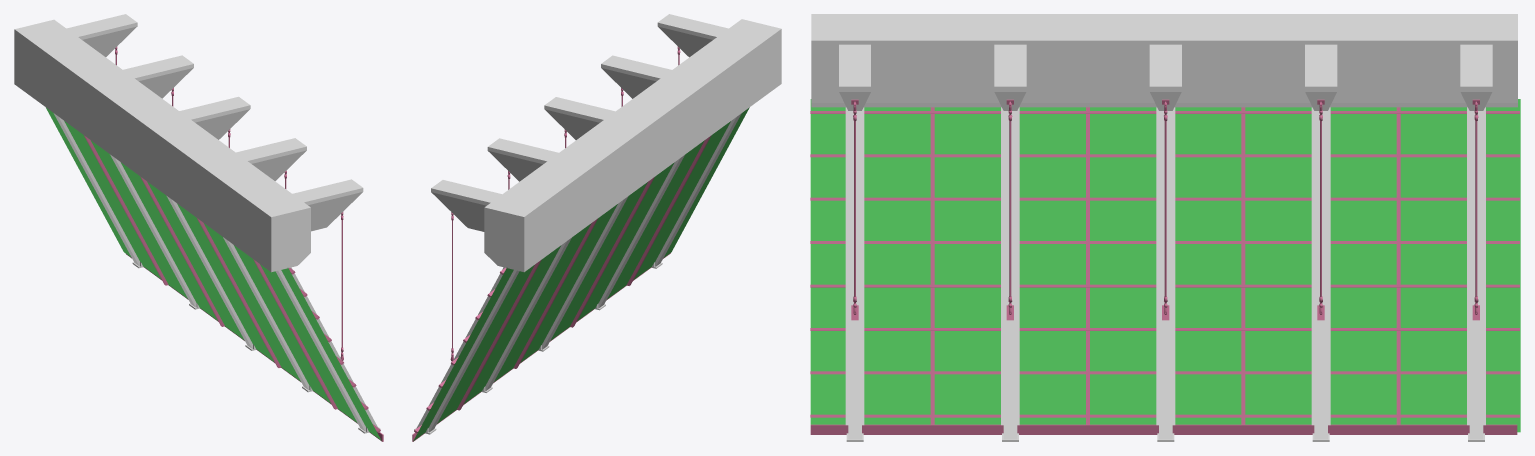
The model's file is Station_Window.fbx.
The picture shows the model from 3 angles, left to right: view 1: azimuth 30°, elevation 25°; view 2: azimuth 150°, elevation 25°; view 3: azimuth 270°, elevation 25°; orthographic projection. The views are drawn at different scales.
Visible parts, largest first — view 1: Cube.020; view 2: Cube.020; view 3: Cube.020.
Part boxes in pixels (bbox=[...]): Cube.020: bbox=[14, 14, 383, 441]; Cube.020: bbox=[412, 14, 781, 441]; Cube.020: bbox=[810, 14, 1520, 441].
Bounding box in the file's own units: 2493 × 4917 × 9142.
